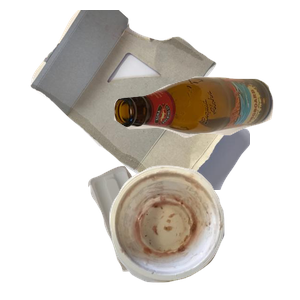glass: (111, 74, 300, 204)
paper: (28, 10, 268, 190)
plastic: (85, 163, 235, 300)
trash: (107, 163, 300, 300)
